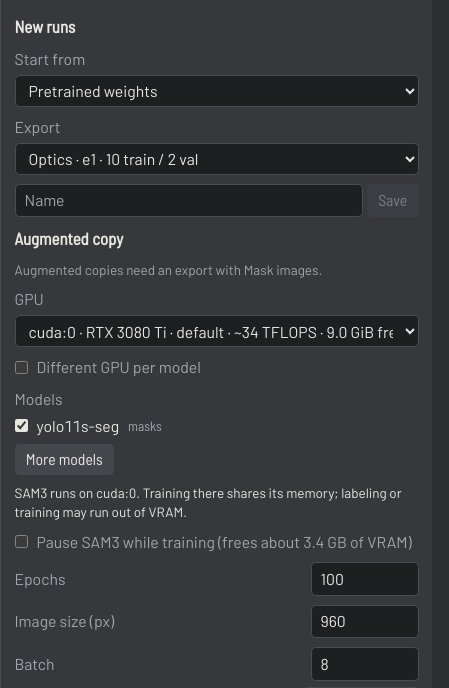
TrainSidebar Pause SAM3 checkbox › appears only with the SAM3 warning, unchecked, naming the VRAM it frees
Expected: the text "SAM3 runs on cuda:0" is shown, [14,484,418,522]
Expected: the checkbox labelled "Pause SAM3 while training (frees about 3.4 GB of VRAM)" is not checked, [14,535,28,548]
Select "cuda:1 · RTX 2080 Ti · ~14 TFLOPS · 5.0 GiB free" in the dropdown labelled "GPU": (216, 331) [14,315,418,347]
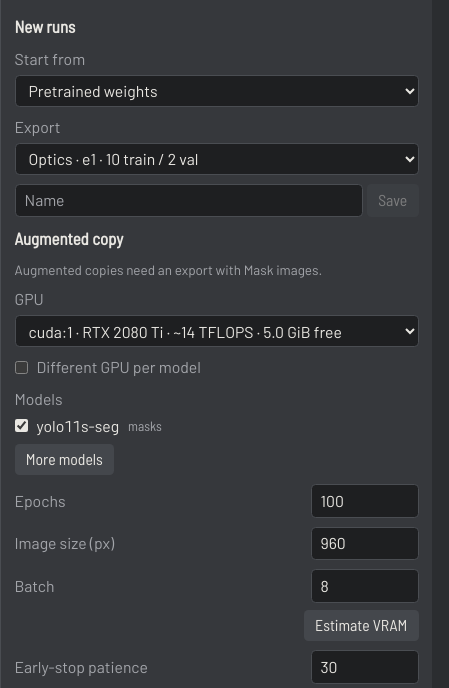
Expected: the label "Pause SAM3 while training" is gone
